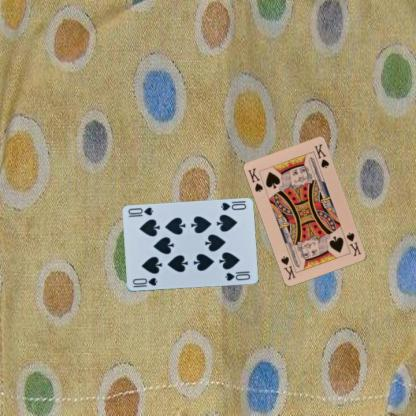10s: (130, 275, 158, 289), (218, 200, 247, 212)
Ks: (344, 230, 363, 258), (246, 165, 264, 194)
